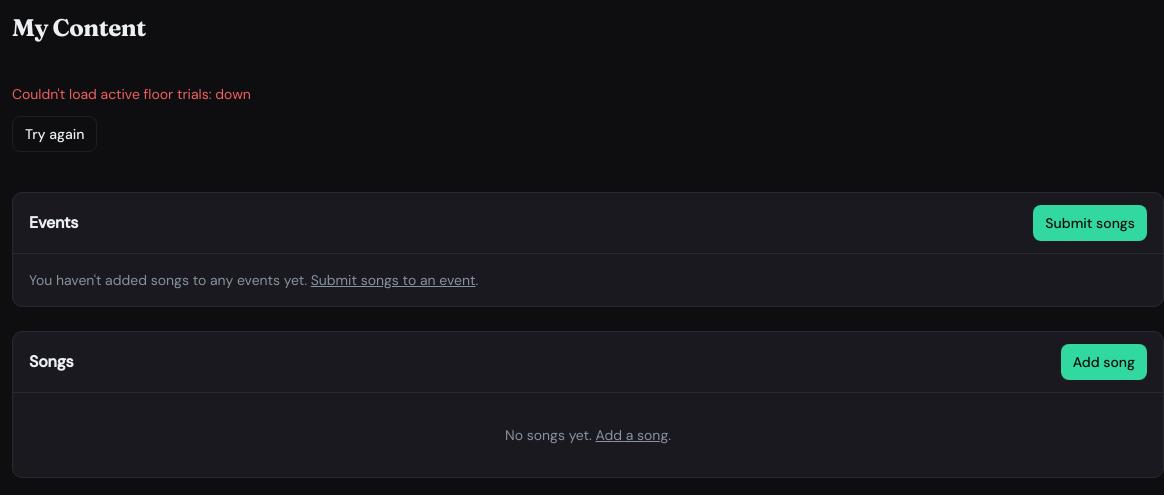
Test: MyContentPage — retrying a failed load › retries active floor trials from the inline error
This screenshot has width=1164, height=495.
Click the button "Try again" at (55,134), box [12, 116, 98, 152]
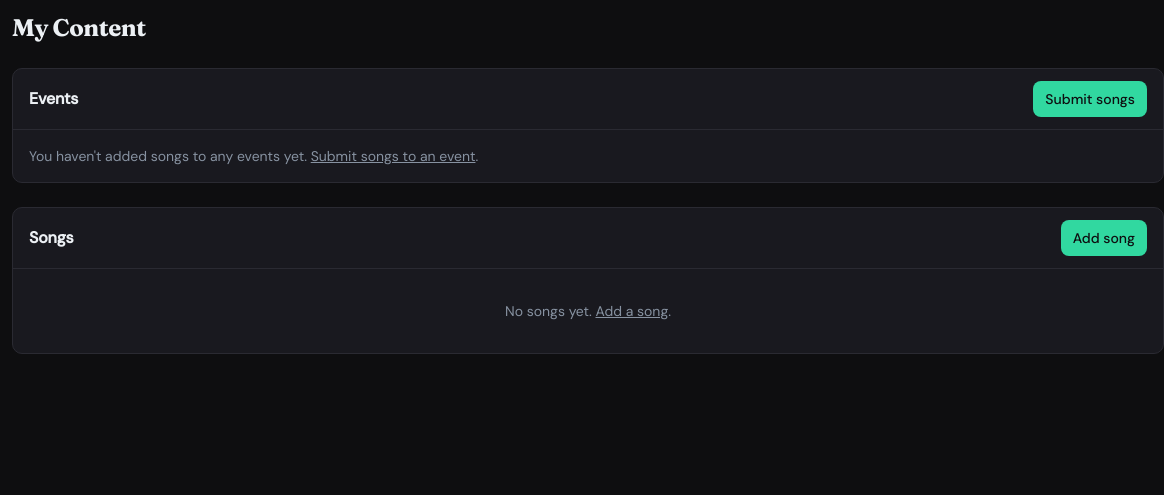
Result: the message "Couldn't load active floor trials: down Try again" is gone
